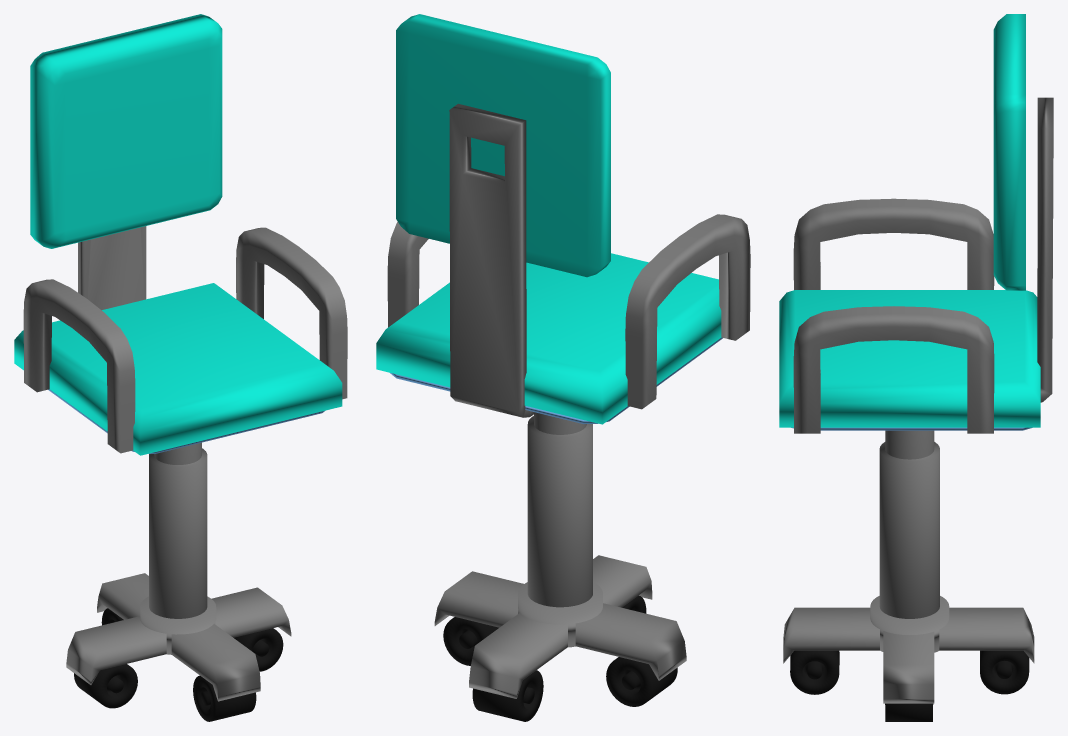
File: chair_tier10.fbx
3 renders of one model, left to right at view 1: azimuth 30°, elevation 25°; view 2: azimuth 150°, elevation 25°; view 3: azimuth 270°, elevation 25°, orthographic. The views are drawn at different scales.
Parts seen in each view (by area): view 1: Cube.007, Cube, Cube.004, Cylinder.001, Cube.002, Cube.001, Cube.006, Cylinder.004, Cylinder.002, Cylinder.005, Cylinder.003, Cylinder (+1 smaller); view 2: Cube.007, Cube, Cube.006, Cube.004, Cylinder.001, Cube.002, Cube.001, Cylinder.004, Cylinder.002, Cylinder.006, Cylinder.003, Cube.005 (+1 smaller); view 3: Cube, Cube.004, Cylinder.001, Cube.007, Cube.001, Cube.006, Cube.002, Cylinder.005, Cylinder.006, Cylinder.002, Cylinder, Cylinder.003 (+1 smaller).
Part boxes in pixels (x1,y1,x2,y2): Cube.007: [30, 14, 222, 248]; Cube: [14, 283, 342, 455]; Cube.004: [23, 227, 347, 453]; Cylinder.001: [149, 448, 207, 618]; Cube.002: [66, 587, 291, 684]; Cube.001: [97, 573, 260, 701]; Cube.006: [78, 226, 146, 310]; Cylinder.004: [74, 664, 137, 708]; Cylinder.002: [140, 596, 216, 654]; Cylinder.005: [193, 675, 256, 721]; Cylinder.003: [234, 628, 283, 671]; Cylinder: [154, 442, 201, 464]; Cube.007: [396, 14, 610, 277]; Cube: [376, 253, 721, 424]; Cube.006: [449, 103, 535, 417]; Cube.004: [387, 214, 750, 409]; Cylinder.001: [527, 416, 592, 607]; Cube.002: [434, 571, 686, 680]; Cube.001: [469, 555, 652, 698]; Cylinder.004: [606, 657, 677, 706]; Cylinder.002: [518, 582, 602, 647]; Cylinder.006: [472, 670, 543, 721]; Cylinder.003: [443, 617, 498, 665]; Cube.005: [390, 337, 722, 423]; Cube: [779, 290, 1040, 427]; Cube.004: [793, 198, 994, 433]; Cylinder.001: [879, 442, 939, 618]; Cube.007: [993, 14, 1025, 290]; Cube.001: [783, 607, 1034, 663]; Cube.006: [1037, 97, 1053, 402]; Cube.002: [883, 631, 934, 703]; Cylinder.005: [790, 650, 839, 694]; Cylinder.006: [980, 650, 1029, 694]; Cylinder.002: [870, 596, 949, 652]; Cylinder: [885, 430, 934, 459]; Cylinder.003: [885, 703, 933, 721].
Size of the model in its own units: 45.47 by 116 by 45.62.
